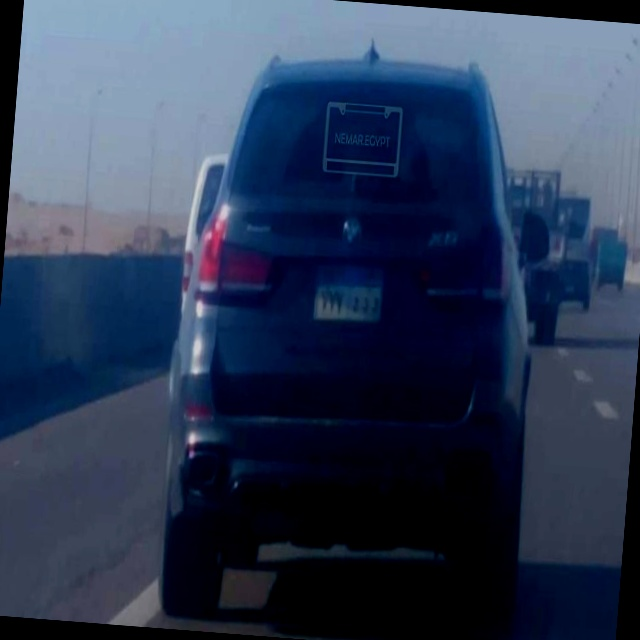License Plate: (310, 257, 389, 329)
